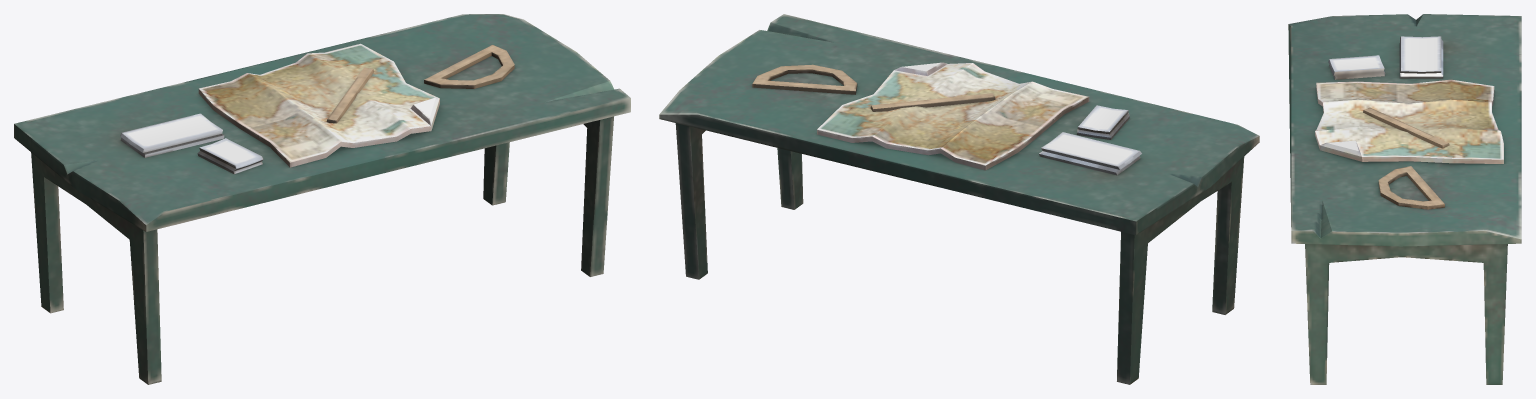
Rendered from Table.fbx.
The picture shows the model from 3 angles, left to right: view 1: azimuth 30°, elevation 25°; view 2: azimuth 150°, elevation 25°; view 3: azimuth 270°, elevation 25°; orthographic projection. The views are drawn at different scales.
Parts seen in each view (by area): view 1: TableWork; view 2: TableWork; view 3: TableWork.
Boxes of the visible parts, bbox=[...] form: TableWork: bbox=[14, 14, 630, 384]; TableWork: bbox=[659, 14, 1259, 384]; TableWork: bbox=[1288, 14, 1521, 384].
Bounding box in the file's own units: 94.92 × 34.72 × 42.38.
